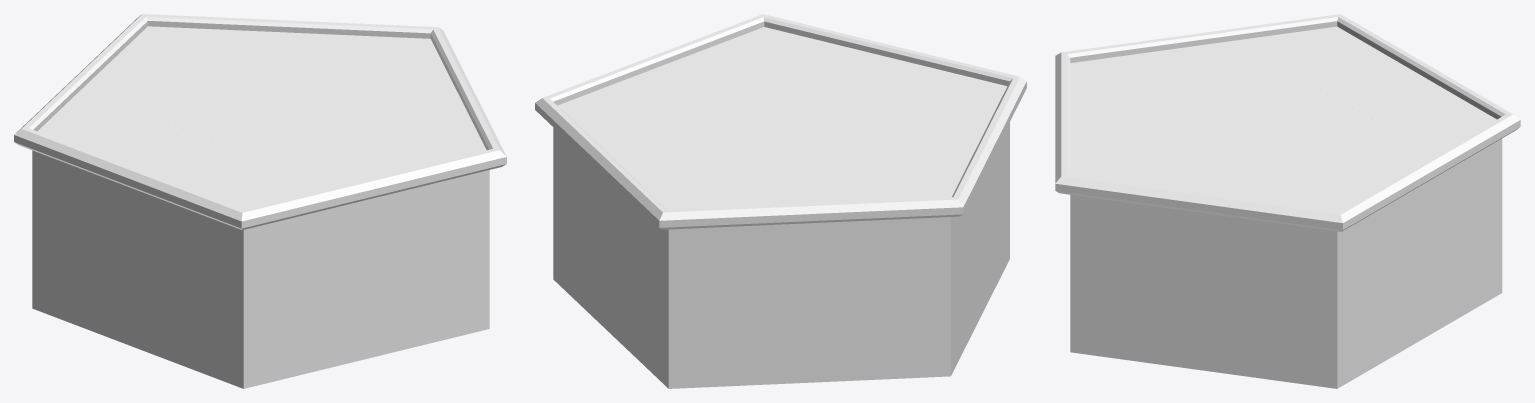
The model's file is LaunchPad.fbx.
3 renders of one model, left to right at view 1: azimuth 30°, elevation 25°; view 2: azimuth 150°, elevation 25°; view 3: azimuth 270°, elevation 25°, orthographic.
Visible parts, largest first — view 1: LaunchPad; view 2: LaunchPad; view 3: LaunchPad.
Boxes of the visible parts, x1,y1,x2,y2 form: LaunchPad: (14,14,506,388); LaunchPad: (535,14,1026,388); LaunchPad: (1055,14,1520,388).
Bounding box in the file's own units: 8196 × 3300 × 7795.
